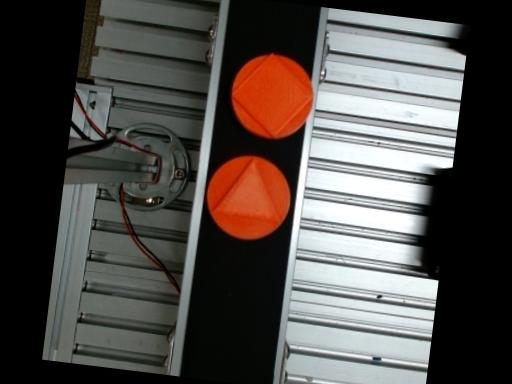Not_Square: (211, 155, 282, 221)
Orange_Waper: (232, 53, 313, 138), (208, 155, 290, 238)
Square: (231, 52, 314, 136)
